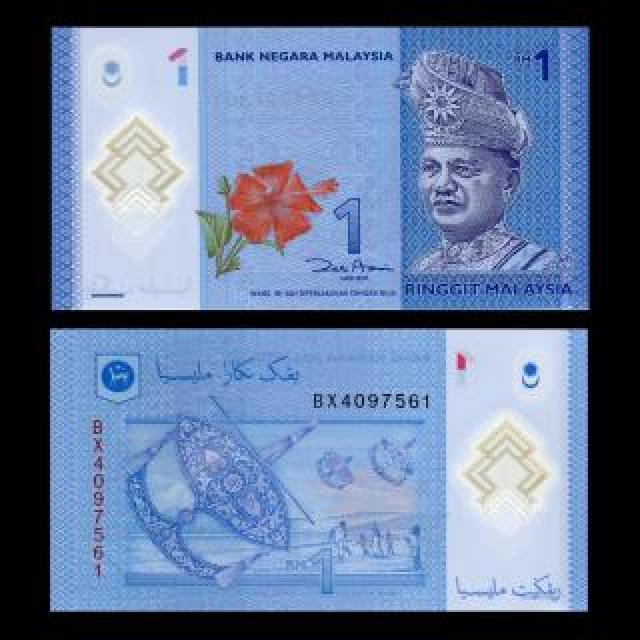1 Ringgit: (44, 324, 589, 608), (52, 32, 592, 316)
